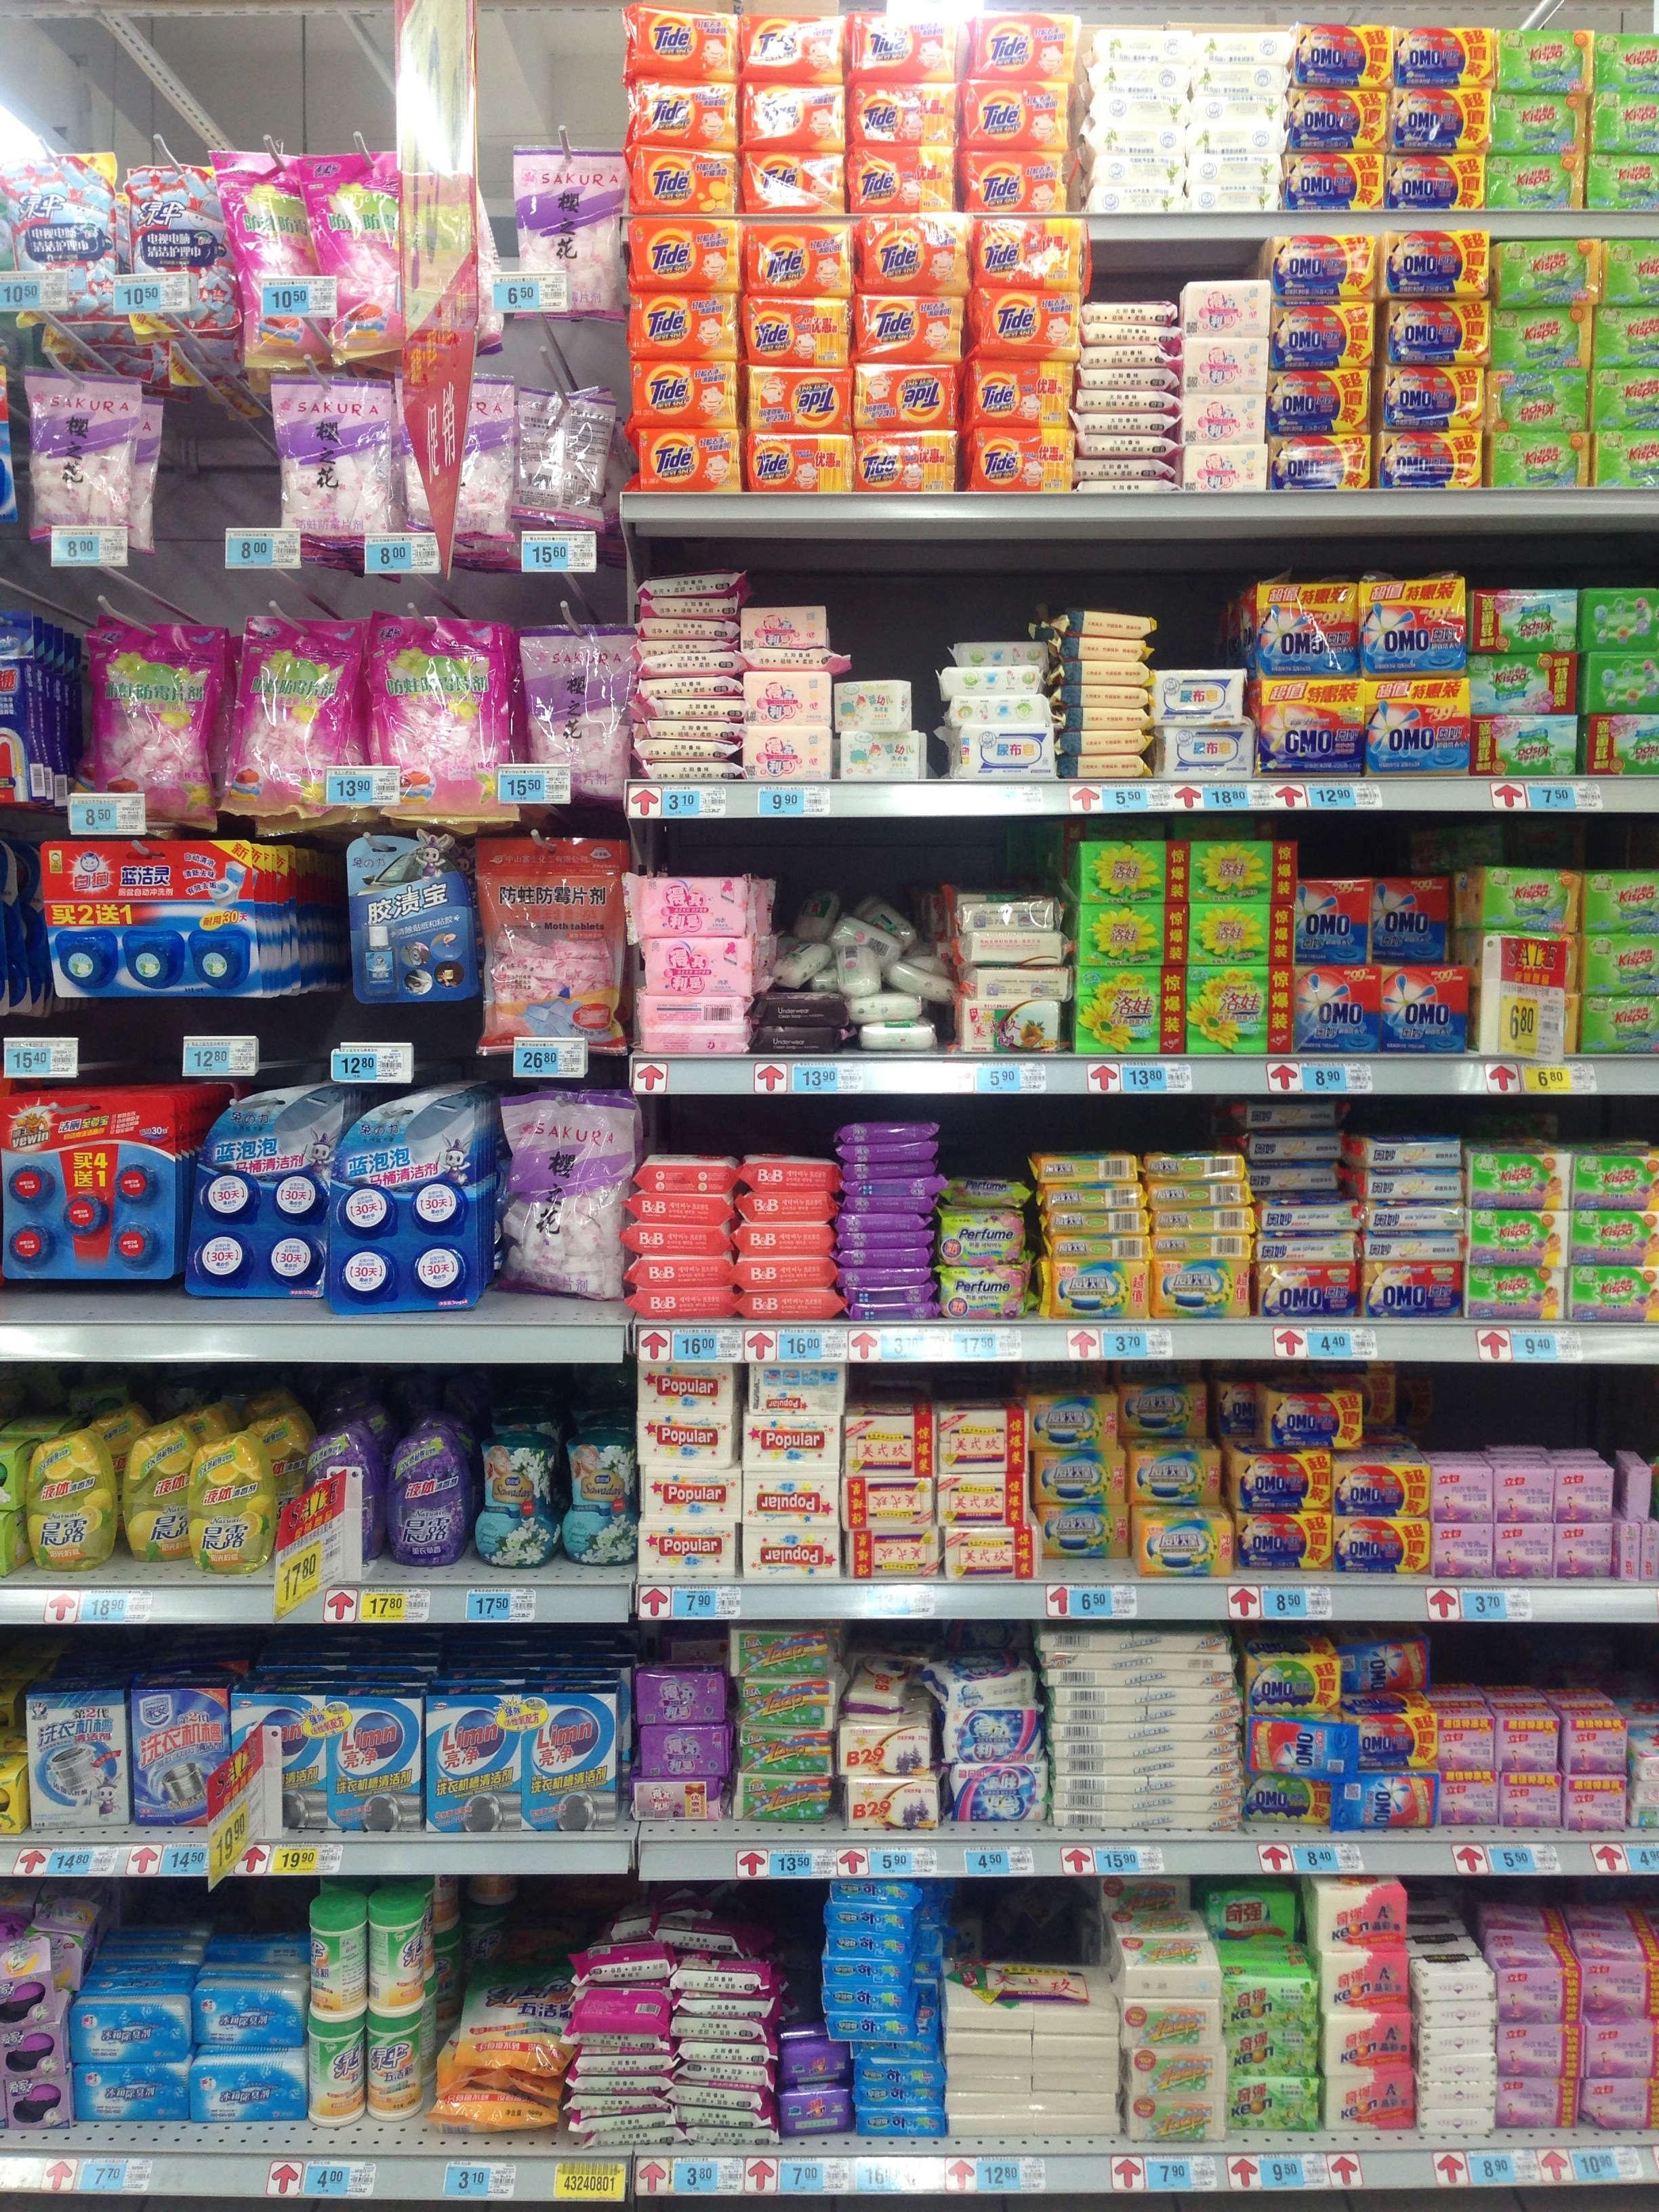misalignment: (793, 899, 951, 1050), (960, 1961, 1086, 2005)
